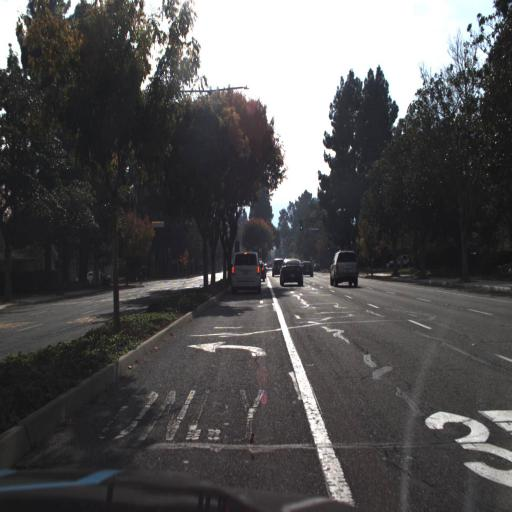car: (330, 244, 364, 289), (230, 247, 261, 290), (74, 270, 114, 294), (278, 256, 304, 290), (386, 248, 412, 272), (299, 254, 314, 276), (299, 260, 315, 279), (272, 254, 284, 278), (259, 261, 270, 282)
